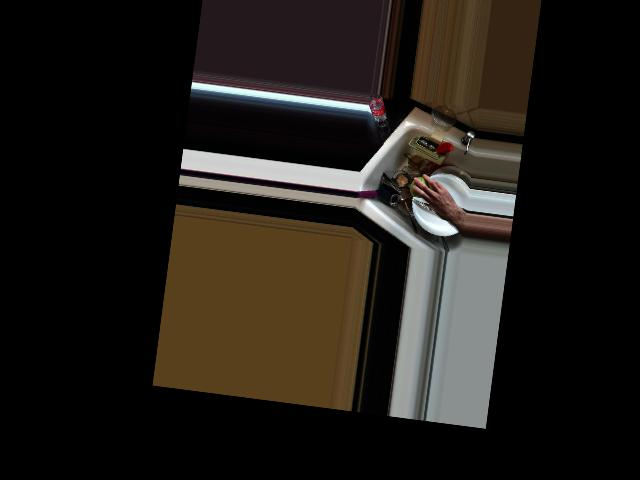apple: (409, 175, 434, 200)
